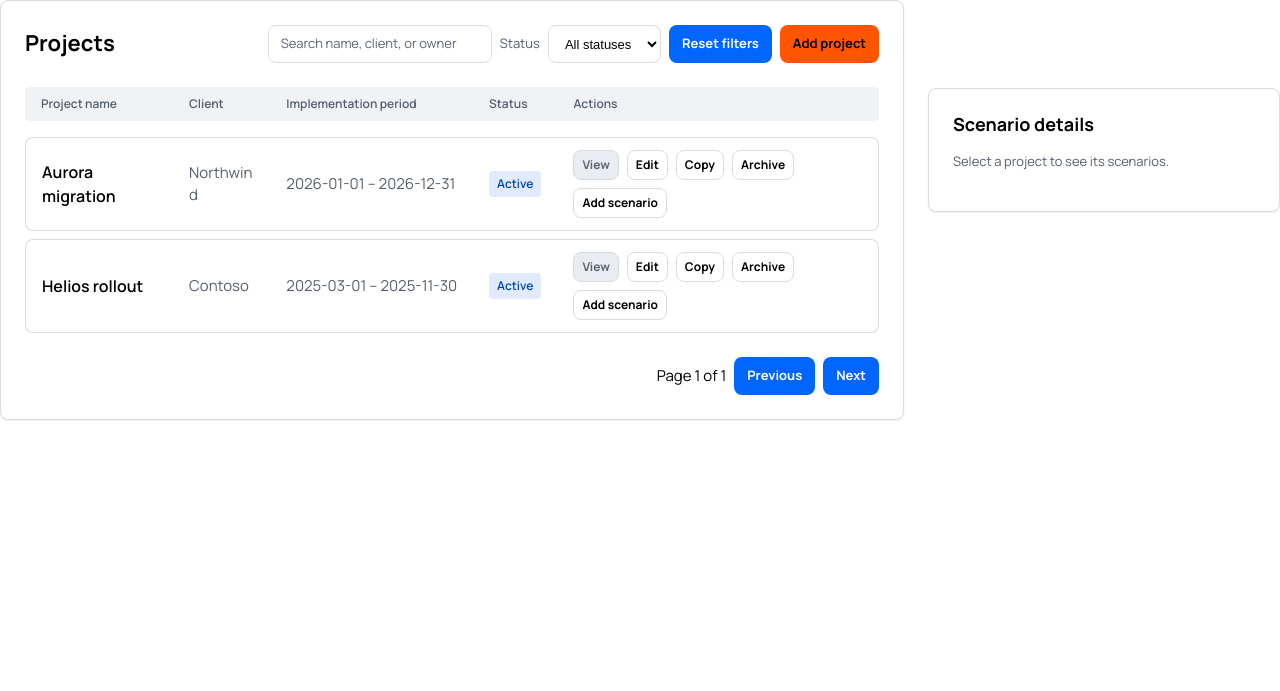
Scenario: K-03 — the rule's presence decides whether 'Set Time & Material' is offered › offers a keyboard-reachable 'Set Time & Material' when the scenario has no rule
Click the button "Aurora migration". click: (100, 184)
box: [42,160,157,208]
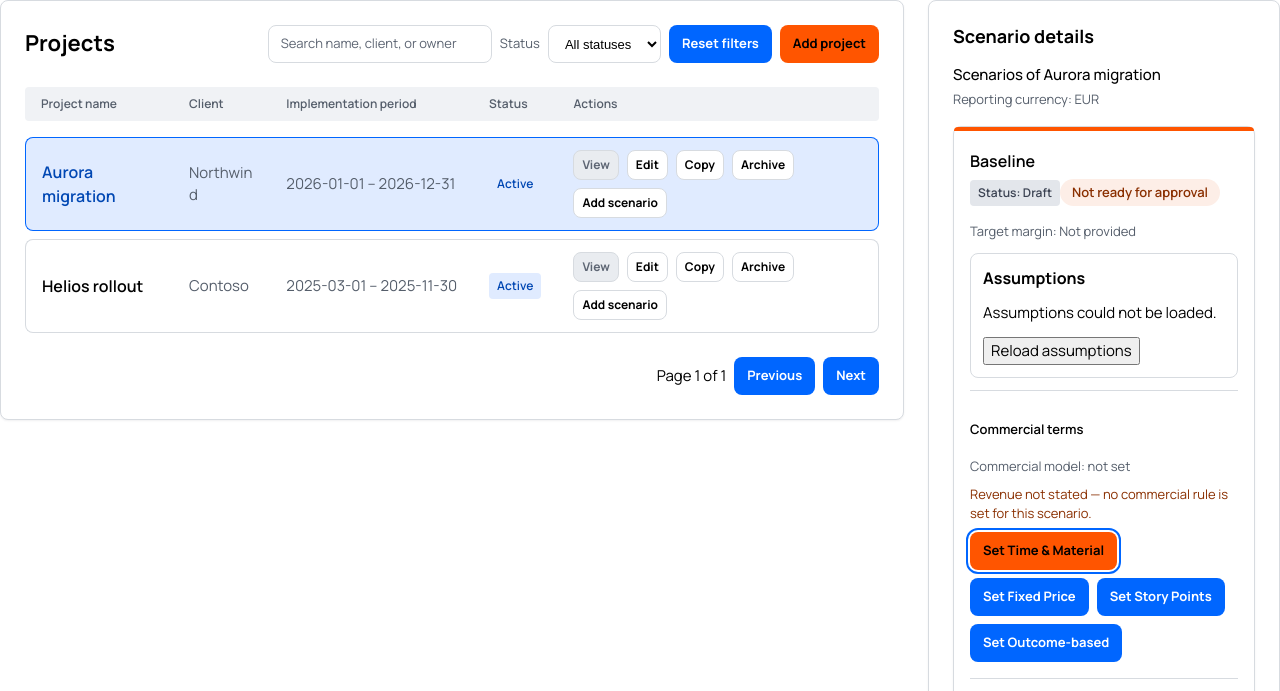
Expected: the text "Commercial model: not set" is shown, [970,457,1130,475]
